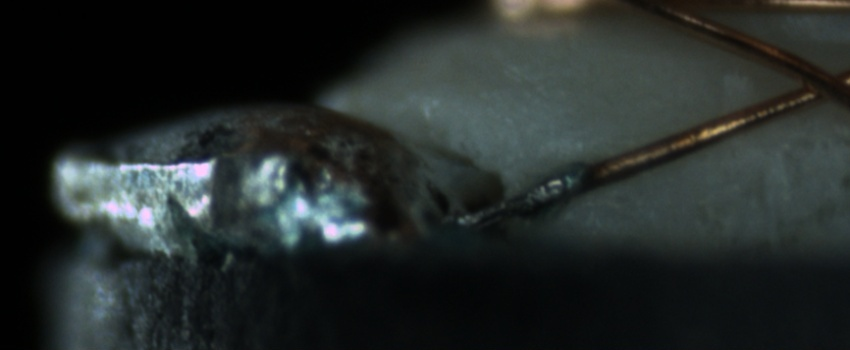CL: (770, 52, 848, 115)
TB: (516, 168, 584, 216)
TS: (458, 161, 593, 229)
TTCW: (447, 150, 637, 230)
